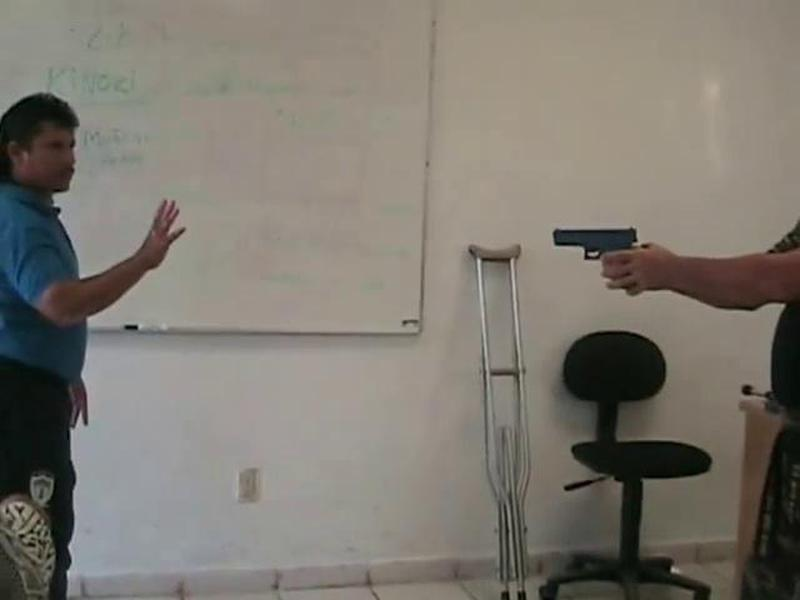Pistola: (548, 224, 645, 267)
